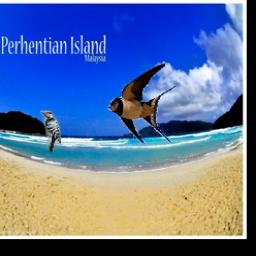Swallow: (107, 64, 175, 145)
Woodpecker: (40, 111, 61, 153)
